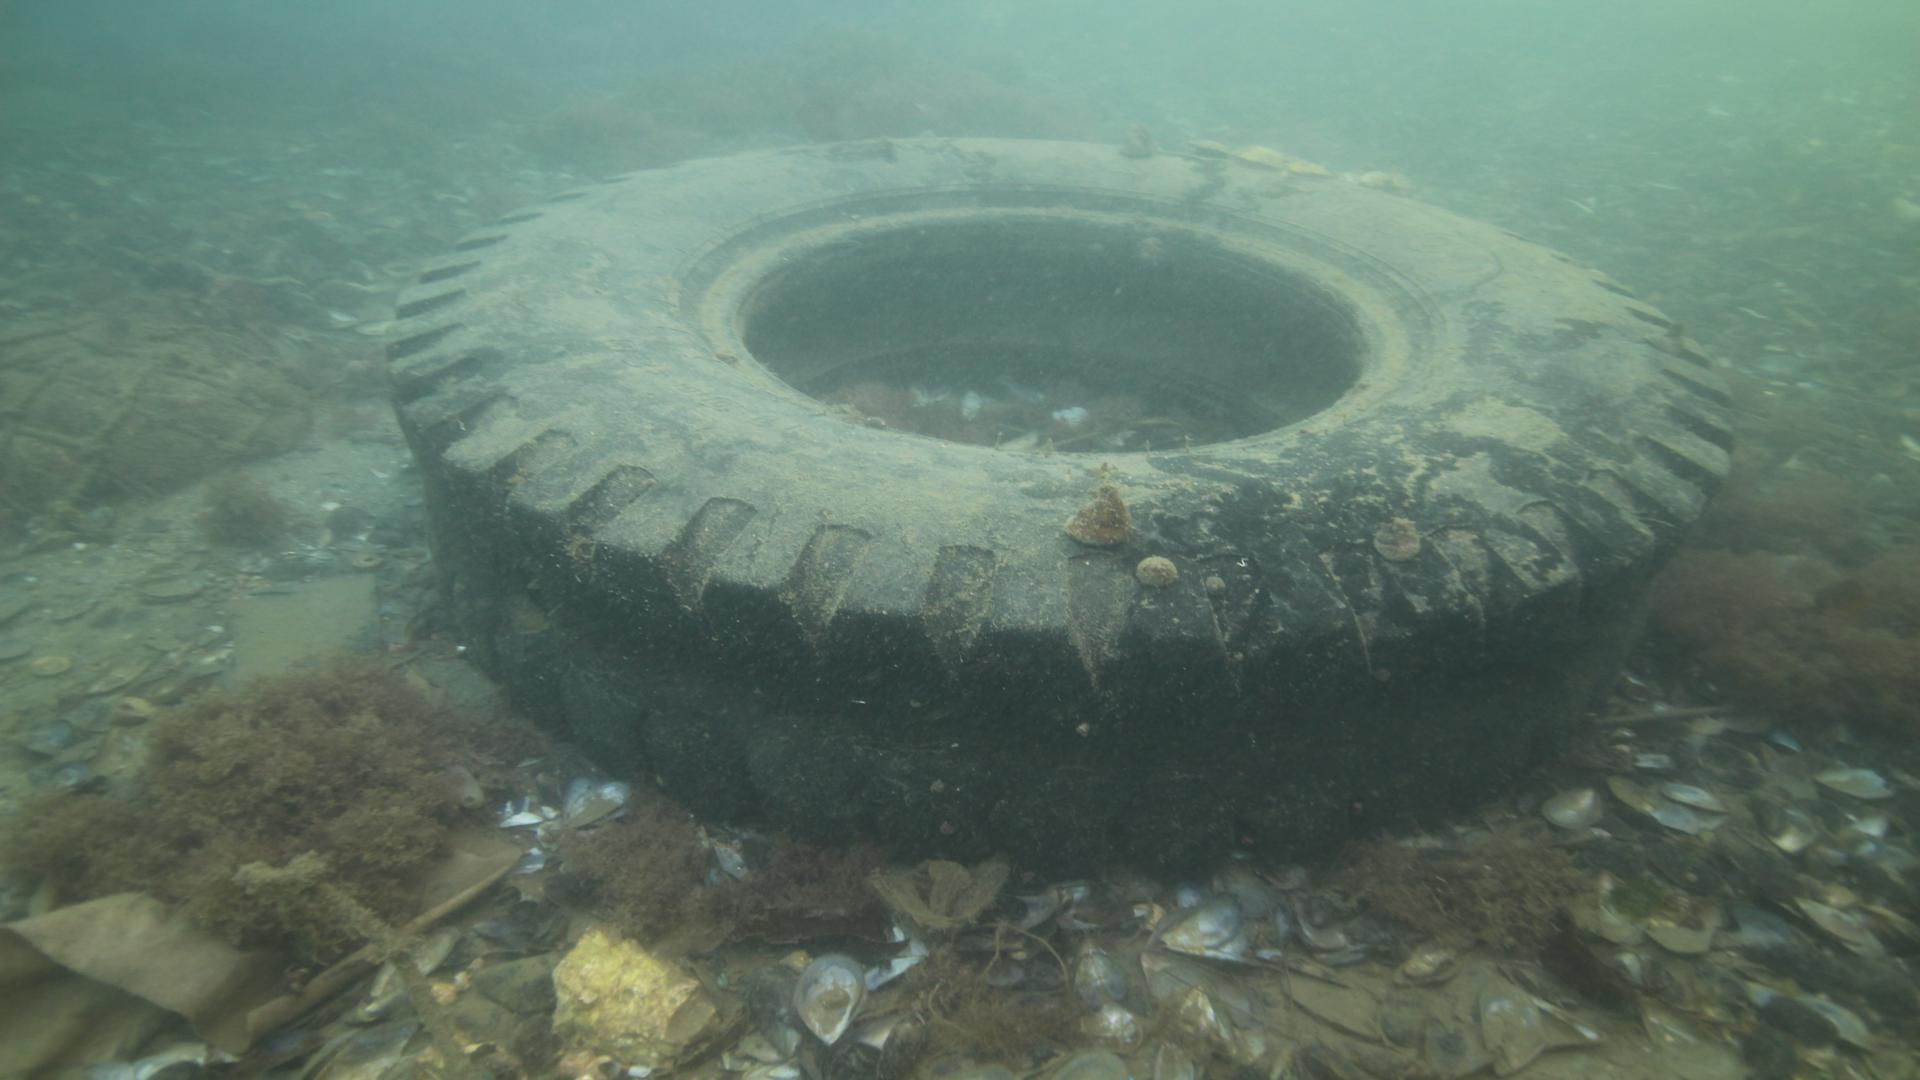tire: (378, 135, 1737, 880)
